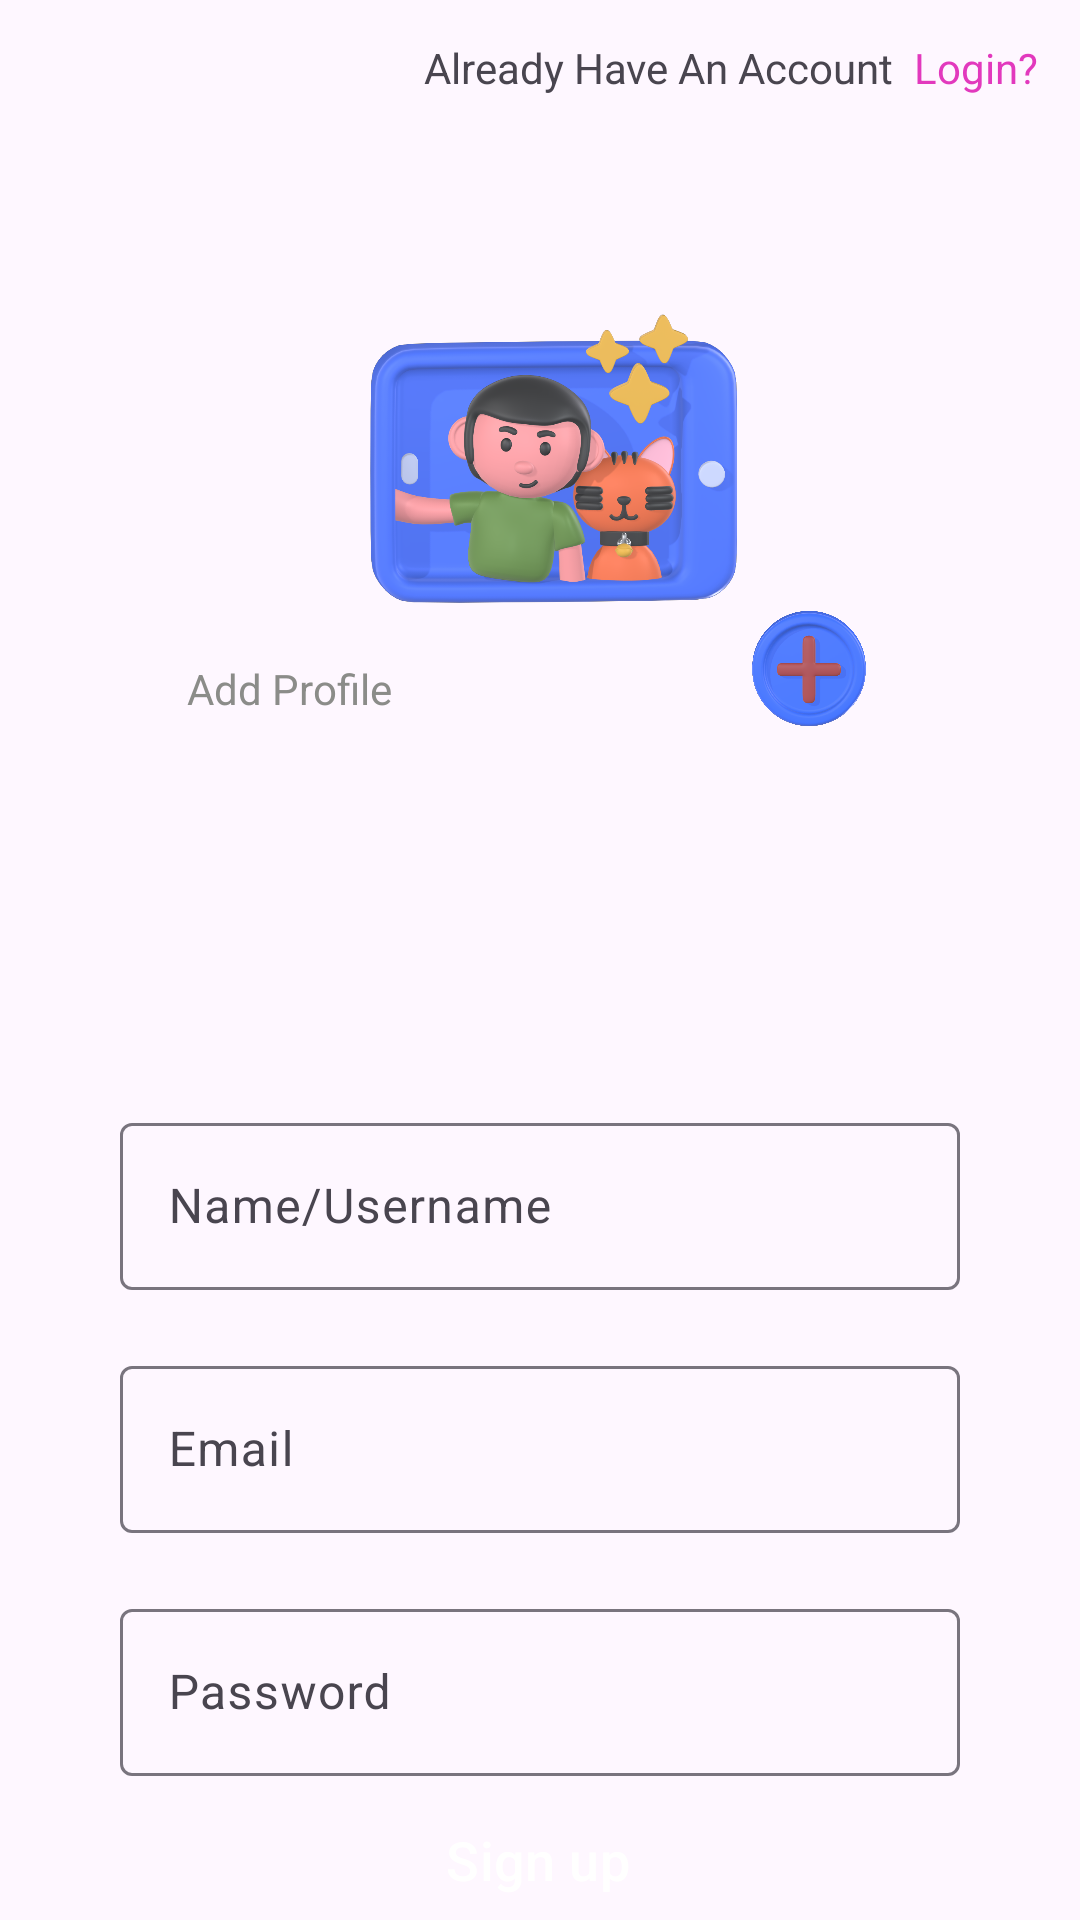

Screen size 1080*1920. Icon name, then its box in pixels as (x1, y1, x2, y2):
add: (752, 611, 866, 726)
